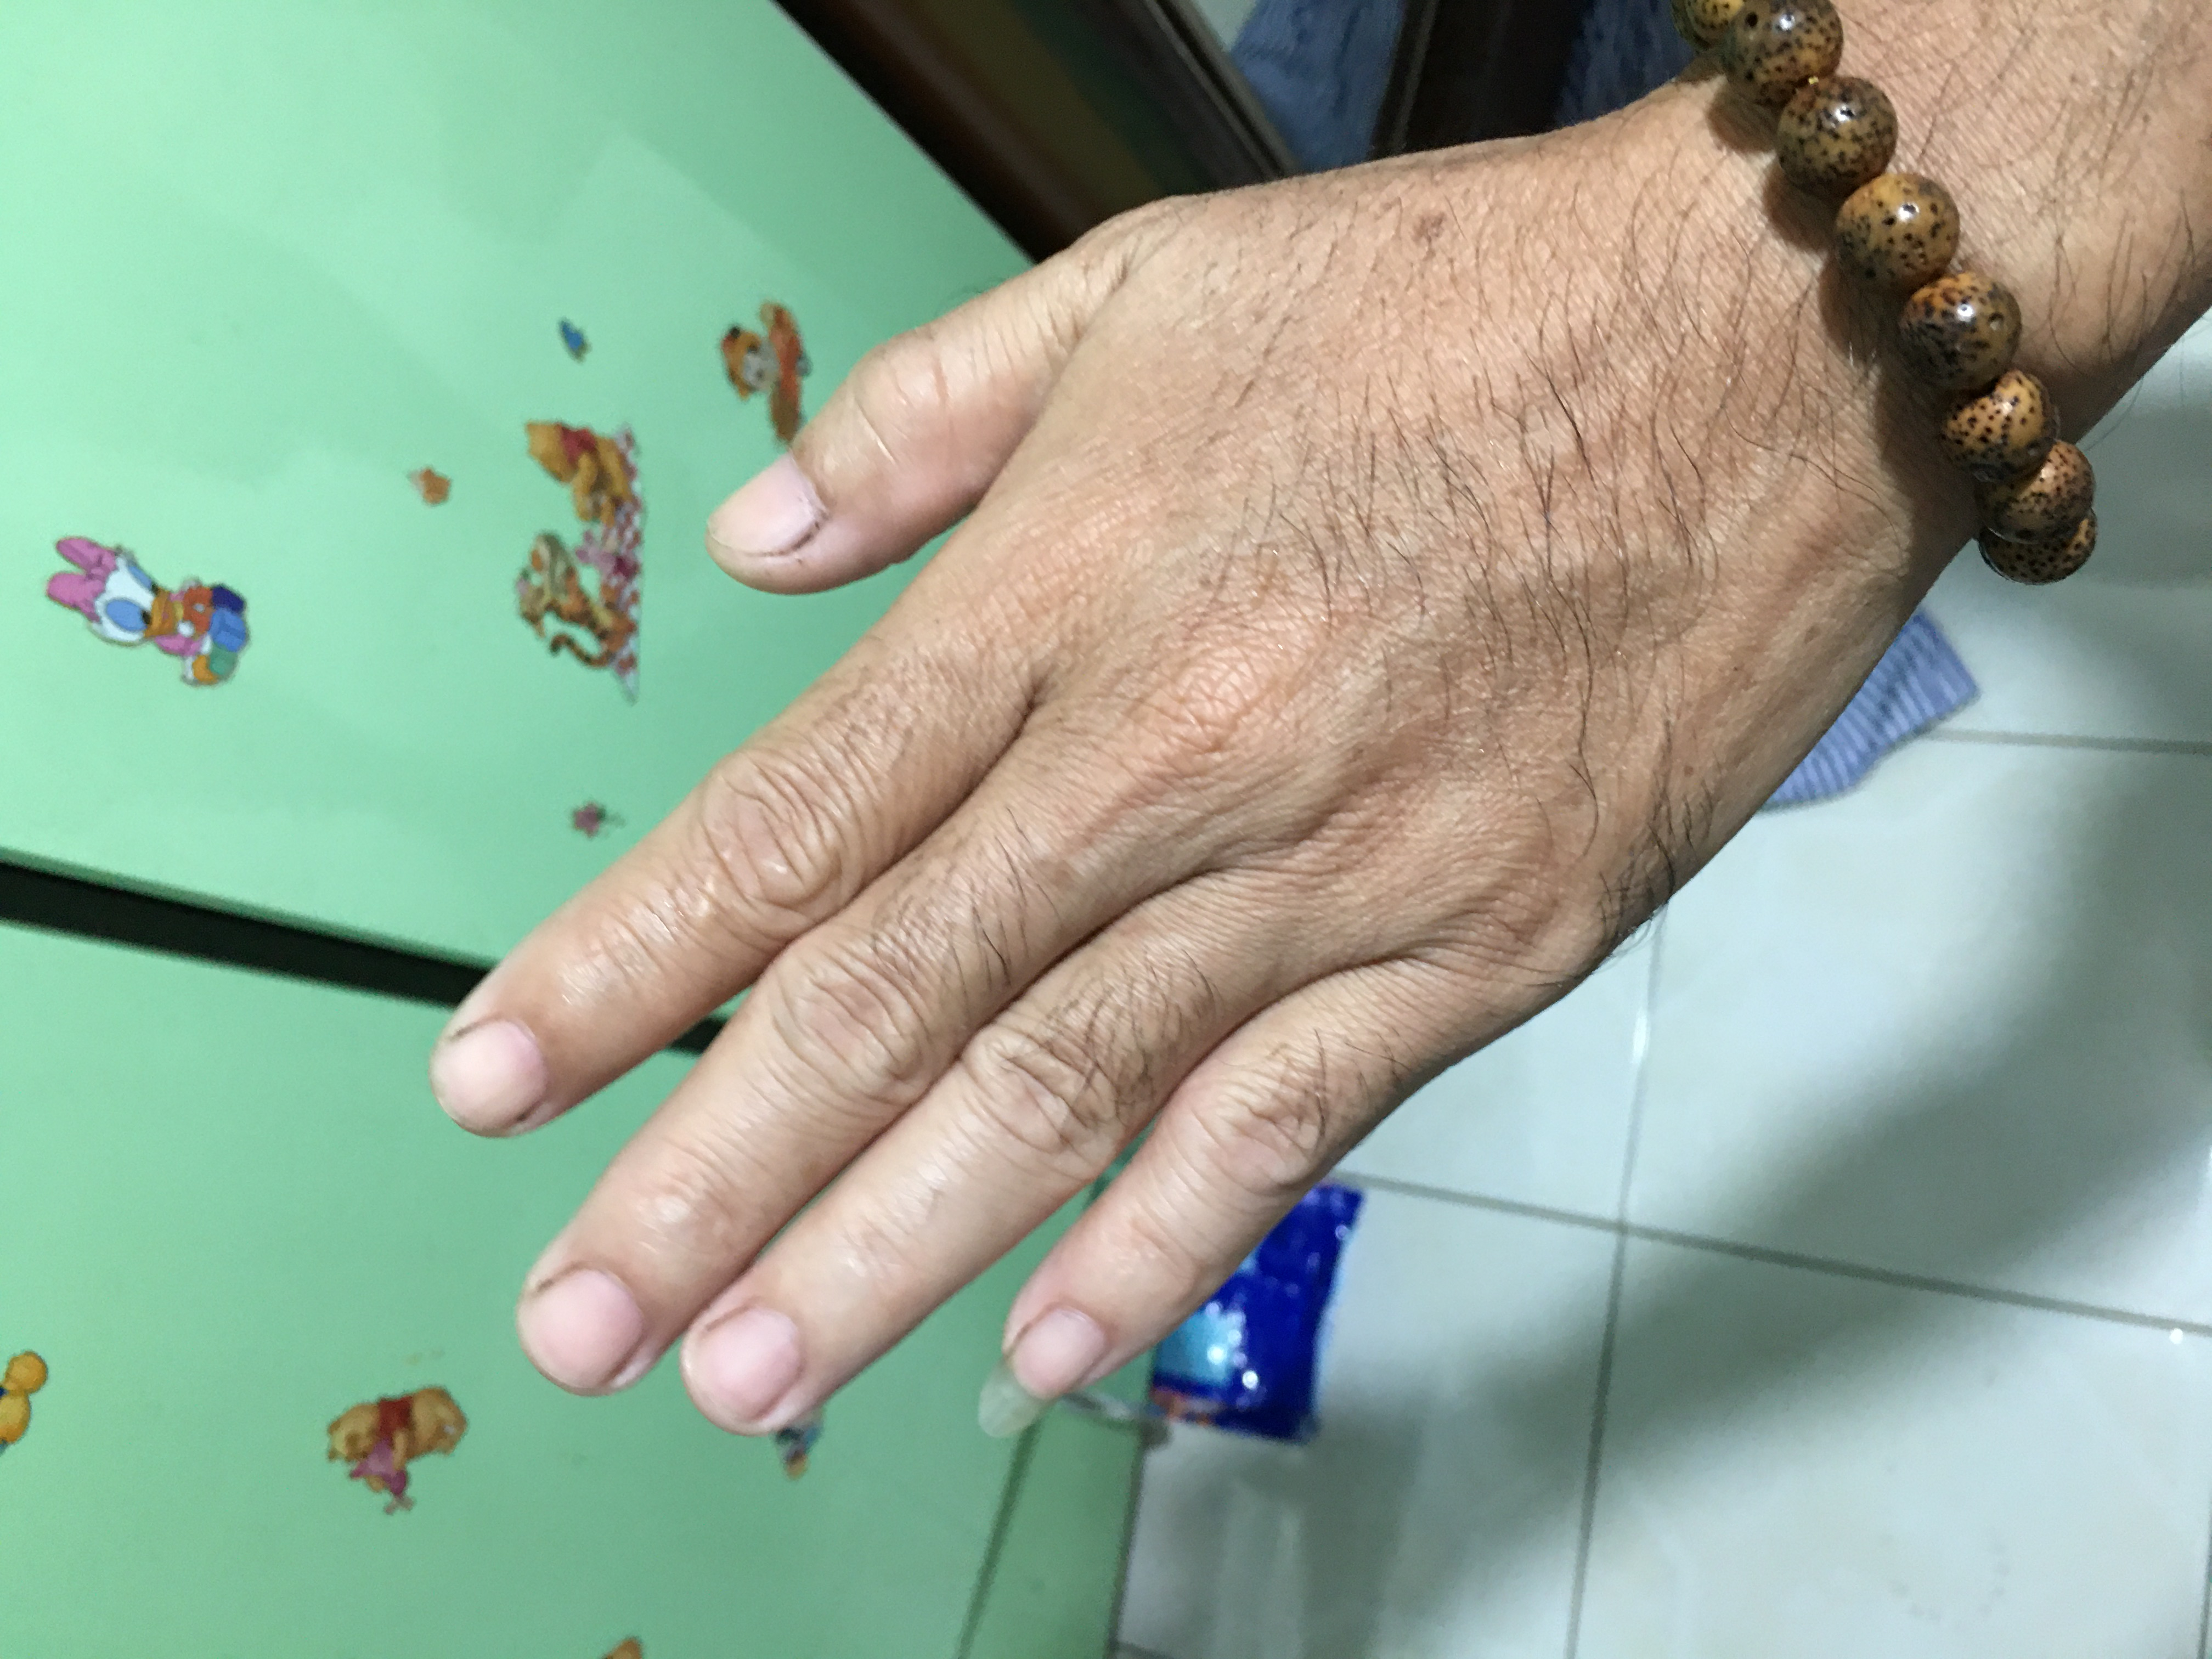nails: (516, 1253, 662, 1401), (679, 1291, 820, 1438), (697, 444, 850, 579), (423, 995, 559, 1140), (989, 1290, 1115, 1401)
